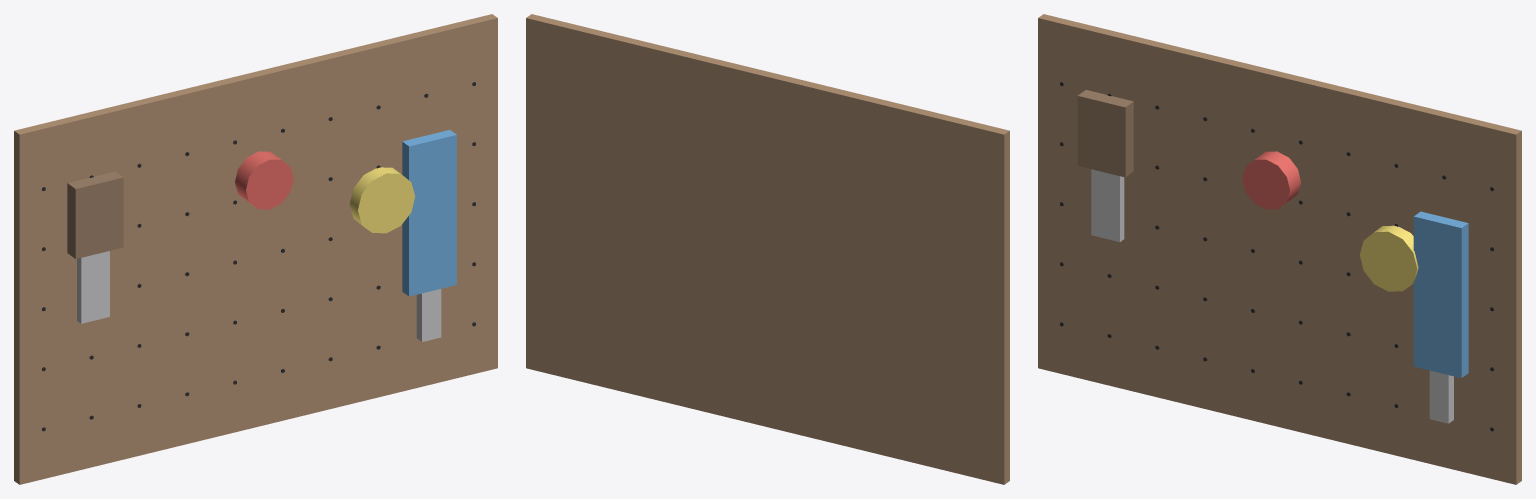
File: tool-board.glb
The picture shows the model from 3 angles, left to right: view 1: azimuth 30°, elevation 25°; view 2: azimuth 150°, elevation 25°; view 3: azimuth 330°, elevation 25°; orthographic projection.
Parts seen in each view (by area): view 1: body; view 2: body; view 3: body.
Part boxes in pixels (x1,y1,x2,y2): body: (14, 14, 497, 484); body: (526, 14, 1009, 484); body: (1038, 14, 1521, 484).
Bounding box in the file's own units: 1 × 0.7 × 0.06.
